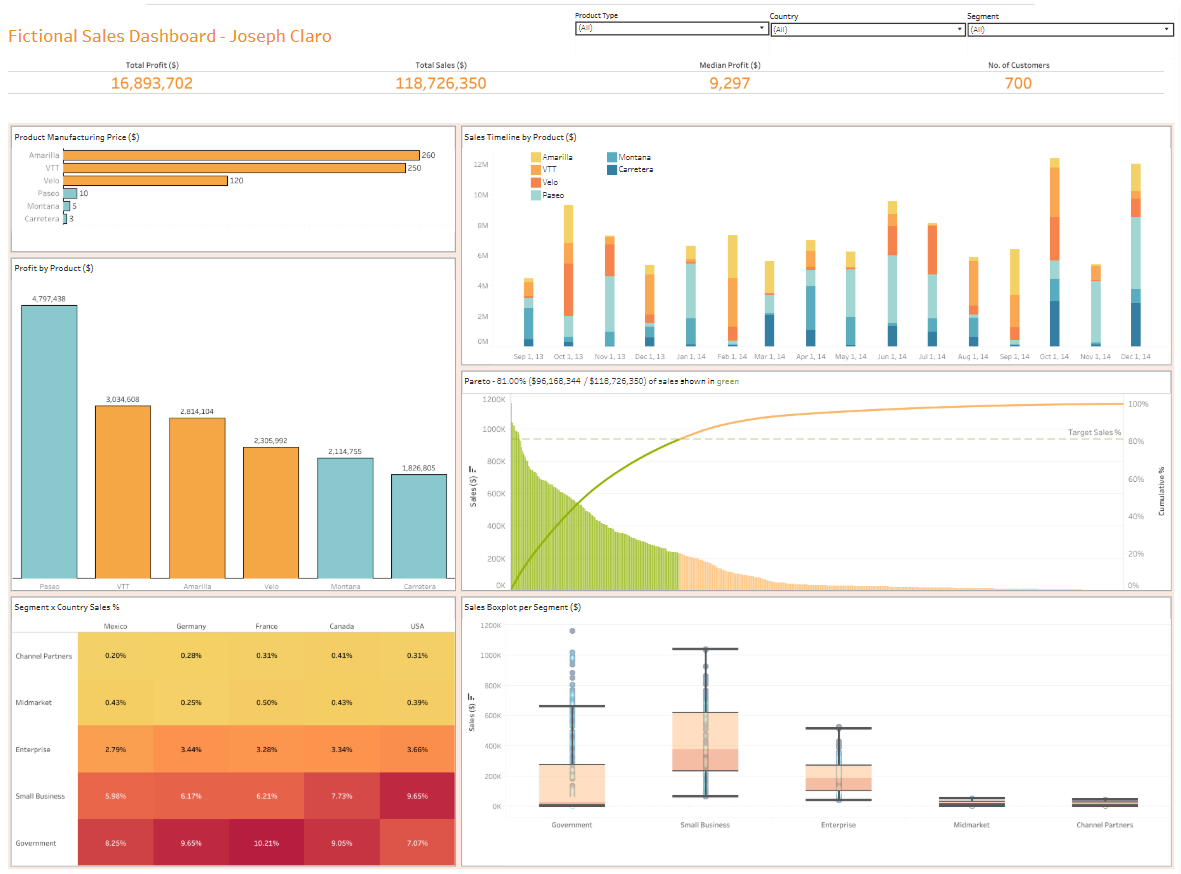

The page's visual inventory and layout, read from the dashboard file:
{"tool":"tableau","page":{"name":"Dashboard 1","canvas":[1854,1369],"ordinal":0},"visuals":[{"type":"text","box":[8,8,893,76]},{"type":"filter","title":"profit/product","param":"[federated.1s19hh501nv53g161b6781sh74ex].[none:Product (Financials):nk]","box":[901,8,307,76]},{"type":"filter","title":"boxplot","param":"[federated.1s19hh501nv53g161b6781sh74ex].[none:Country:nk]","box":[1208,8,311,76]},{"type":"filter","title":"boxplot","param":"[federated.1s19hh501nv53g161b6781sh74ex].[none:Segment:nk]","box":[1519,8,327,76]},{"type":"worksheet","title":"KPIs","mark":"Automatic","box":[8,84,1838,101.7]},{"type":"worksheet","title":"manuf price","mark":"Automatic","rows":["Product (Financials)"],"cols":["Manufacturing Price ($)"],"box":[8,185.7,709,208.3]},{"type":"worksheet","title":"prod timeline","mark":"Bar","rows":["Sales ($)"],"cols":["Date"],"box":[717,185.7,1129,385.3]},{"type":"legend","title":"prod timeline","param":"[federated.1s19hh501nv53g161b6781sh74ex].[none:Product (Financials):nk]","box":[828,209,279,104]},{"type":"worksheet","title":"profit/product","mark":"Bar","rows":["Profit ($)"],"cols":["Product (Financials)"],"box":[8,394,709,534]},{"type":"worksheet","title":"pareto","mark":"Bar","rows":["Sales ($)","Sales ($)"],"cols":["ID"],"box":[717,571,1129,357]},{"type":"worksheet","title":"segment x country","mark":"Square","rows":["Segment"],"cols":["Country"],"box":[8,928,709,433]},{"type":"worksheet","title":"boxplot","mark":"Heatmap","rows":["Sales ($)"],"cols":["Segment"],"box":[717,928,1129,433]}]}

Visuals, with their boxes in screenshot pixels (x1, y1, x2, y2), scaled from the page's 1854x1369 canvas onto the 1181x874 screenshot:
text: (left=5, top=5, right=574, bottom=54)
"profit/product" filter: (left=574, top=5, right=769, bottom=54)
"boxplot" filter: (left=769, top=5, right=968, bottom=54)
"boxplot" filter: (left=968, top=5, right=1176, bottom=54)
"KPIs" worksheet: (left=5, top=54, right=1176, bottom=119)
"manuf price" worksheet: (left=5, top=119, right=457, bottom=252)
"prod timeline" worksheet (Bar marks): (left=457, top=119, right=1176, bottom=365)
"prod timeline" legend: (left=527, top=133, right=705, bottom=200)
"profit/product" worksheet (Bar marks): (left=5, top=252, right=457, bottom=592)
"pareto" worksheet (Bar marks): (left=457, top=365, right=1176, bottom=592)
"segment x country" worksheet (Square marks): (left=5, top=592, right=457, bottom=869)
"boxplot" worksheet (Heatmap marks): (left=457, top=592, right=1176, bottom=869)
